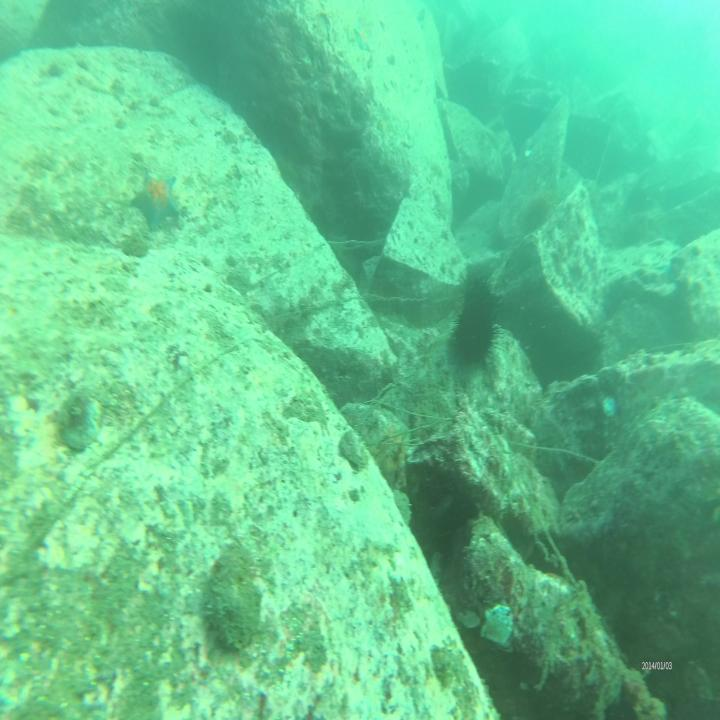echinus: (455, 276, 503, 366)
starfish: (131, 172, 181, 236)
